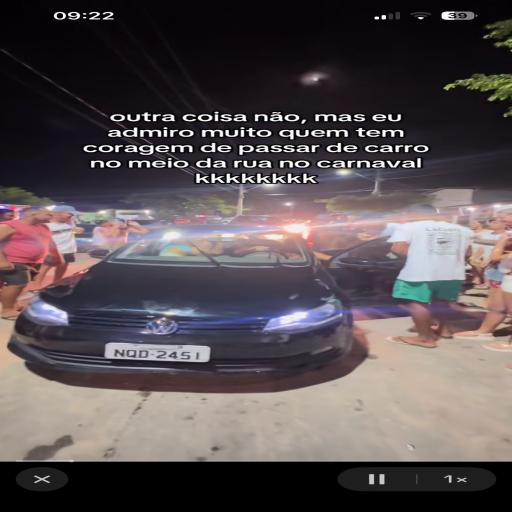detec-o-placas: (92, 326, 270, 378)
